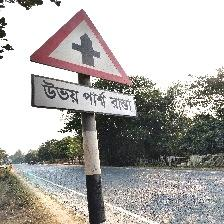Crossroad: (24, 7, 142, 123)
